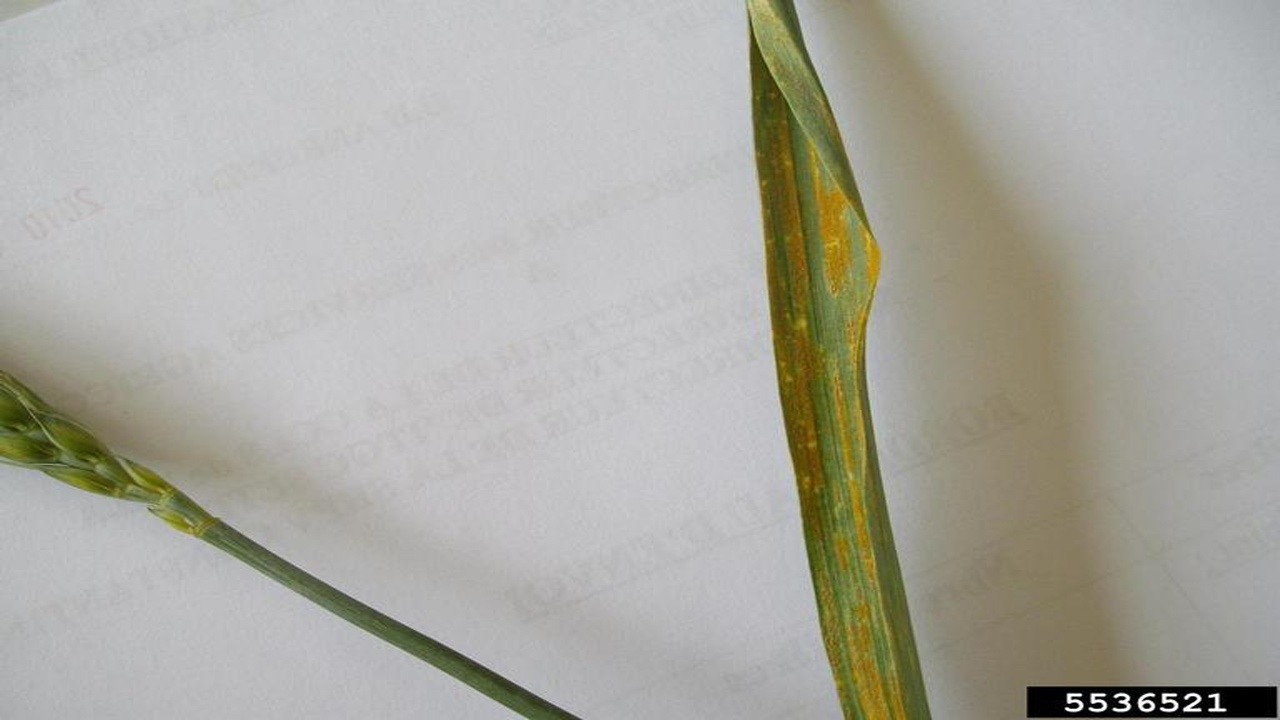stripe_rust: (747, 1, 932, 720)
